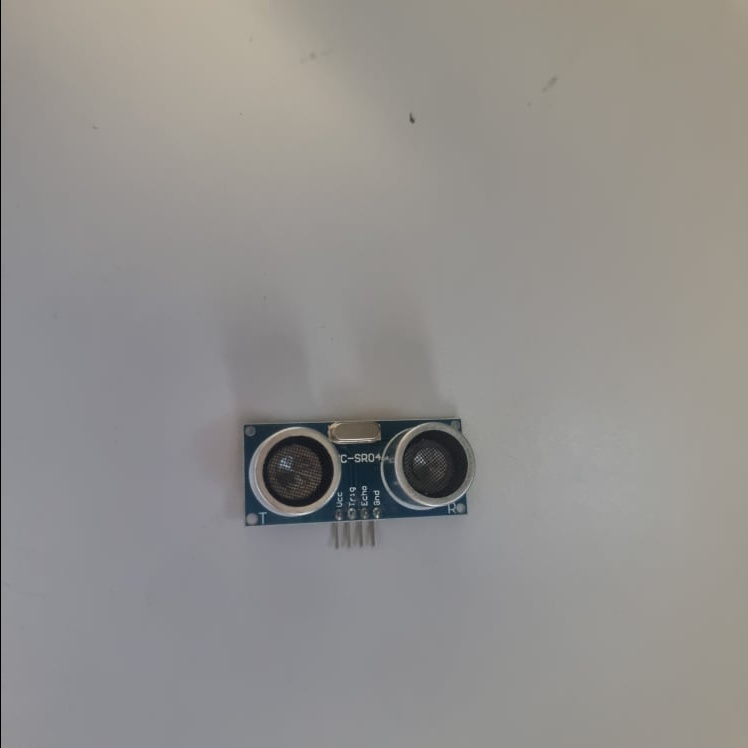SENSOR: (243, 418, 472, 531)
